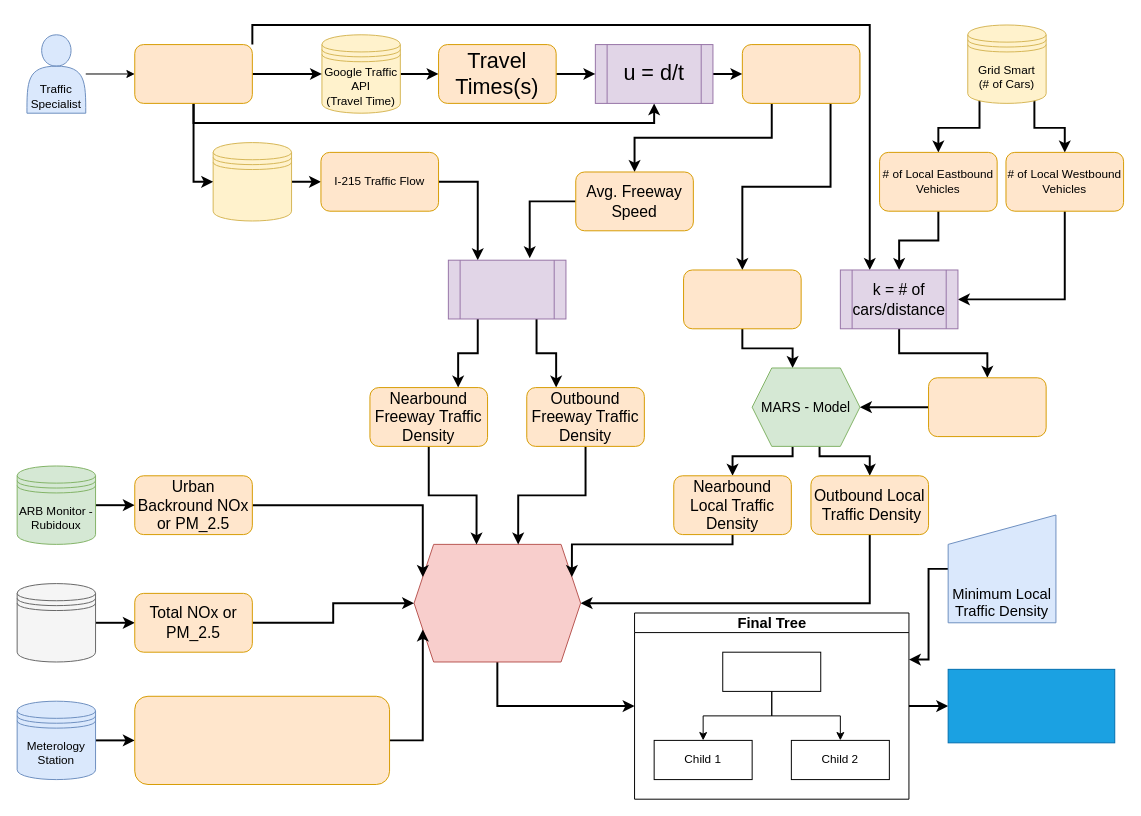
Image size: 1141x816. Some labels were removed from this diagram. The shapes that lost their labels are listed below. From the top down, each one's centre as x and y in pixels, then its label:
At point (193, 73): "Travel Paths (m)".
At point (800, 73): "Avg. Traffic Speed (mph)".
At point (252, 181): "PeMS (Traffic Flow)".
At point (506, 289): "k = q/u".
At point (742, 299): "Avg. Local Speed".
At point (987, 407): "Local Traffic Density".
At point (56, 622): "Clarity".
At point (497, 602): "Boosted Regression Tree - Training Step".
At point (771, 671): "Root".
At point (1031, 705): "Lowest Possible Contribution".
At point (262, 739): "Wind Speed Wind Direction Relative Humidity Air Temperature".
